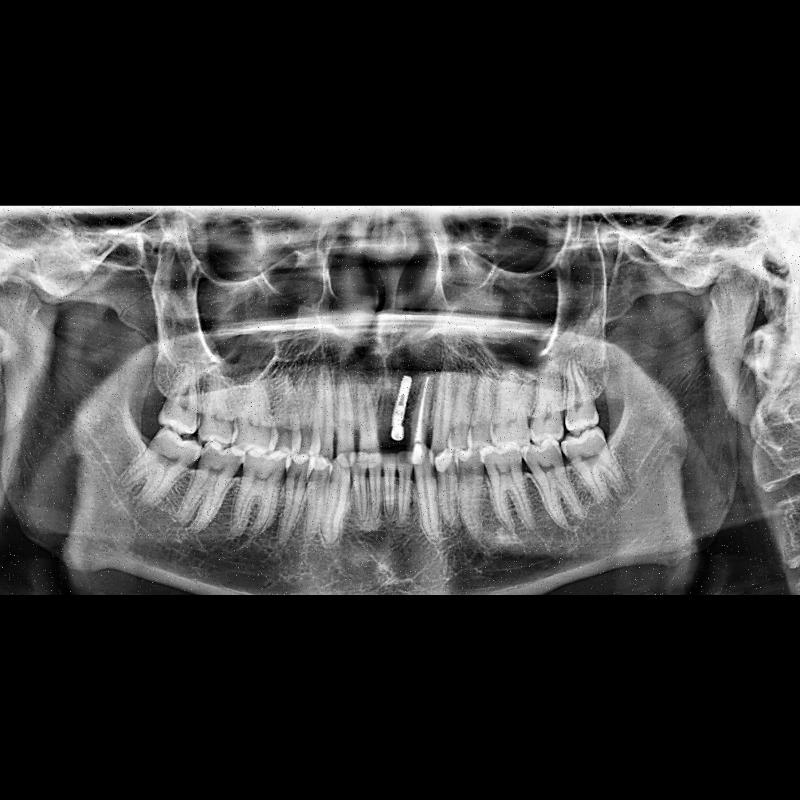osstem: (378, 368, 418, 426)
